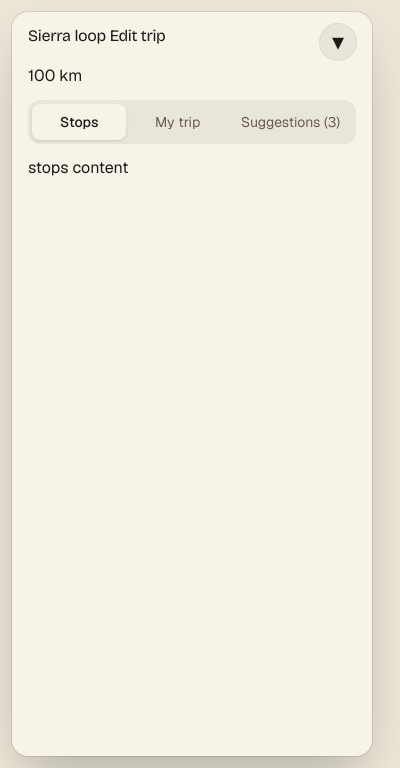
Test: StopsPanel › switches to the Suggestions tab and shows the count
Step 1. Click the tab "Suggestions (3)" → (290, 122), box left=229, top=104, right=352, bottom=140
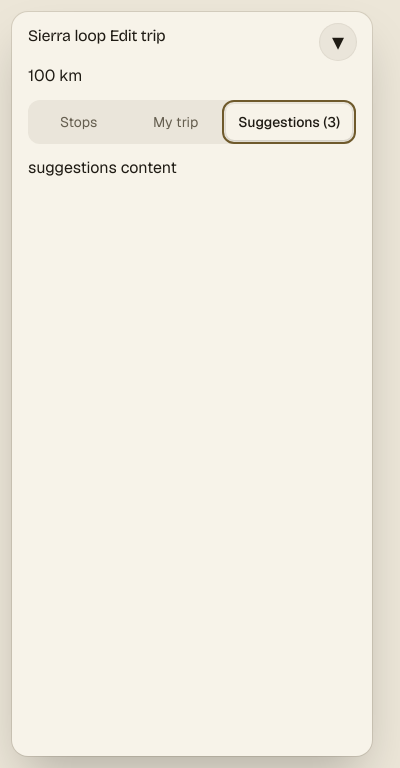
Expected: the text "suggestions content" is shown, left=28, top=157, right=177, bottom=178
Expected: the text "stops content" is gone
